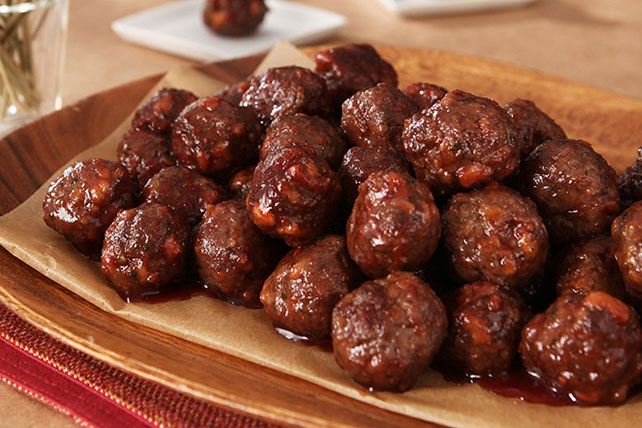meatballs: (62, 65, 634, 409)
